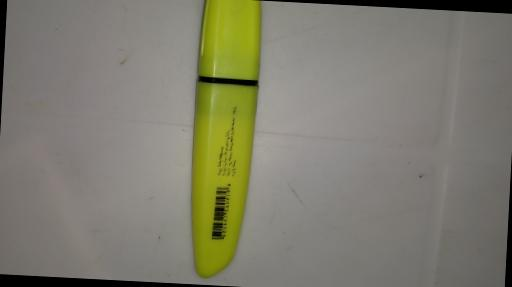Highlighter: (183, 0, 264, 283)
